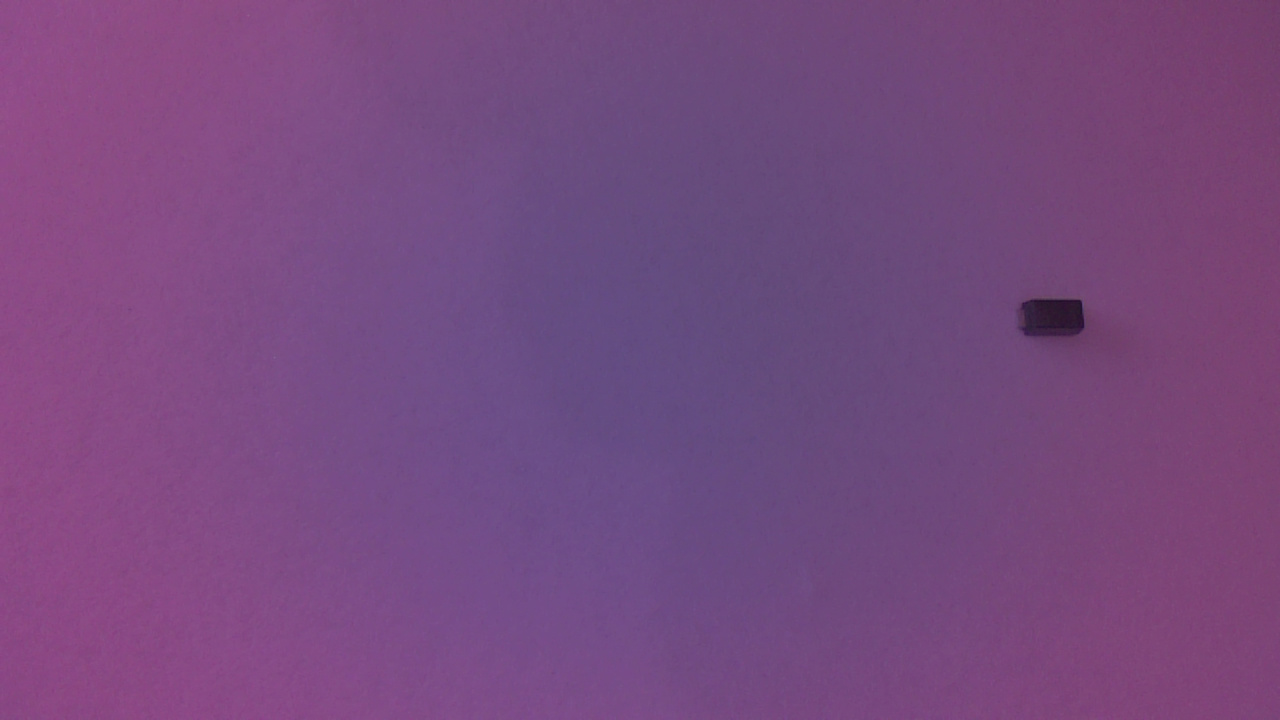Diode: (1012, 291, 1101, 344)
